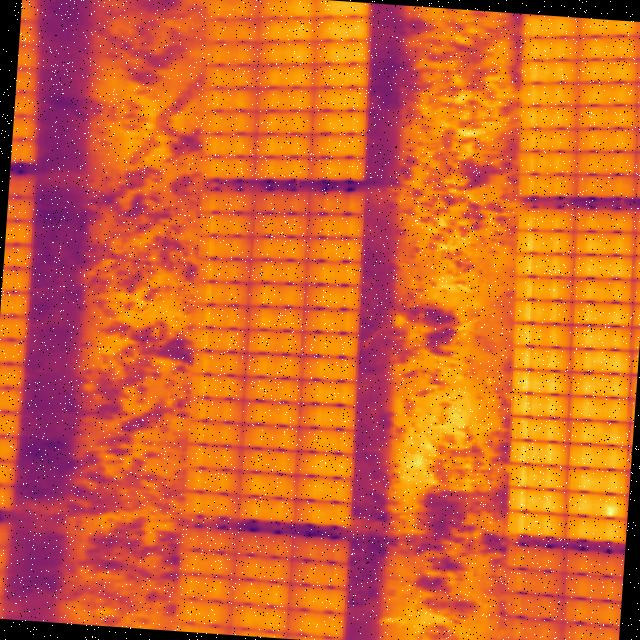Hotspot: (604, 503, 618, 516)
